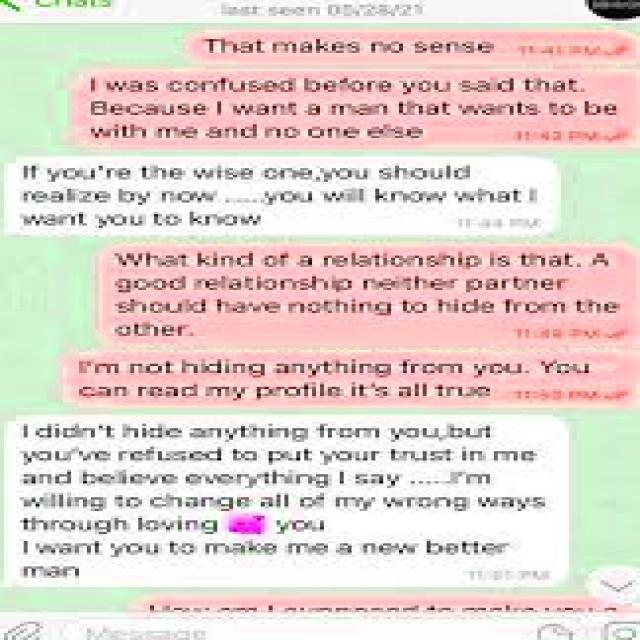scam: (1, 410, 560, 584), (4, 417, 557, 580), (3, 156, 561, 235)
